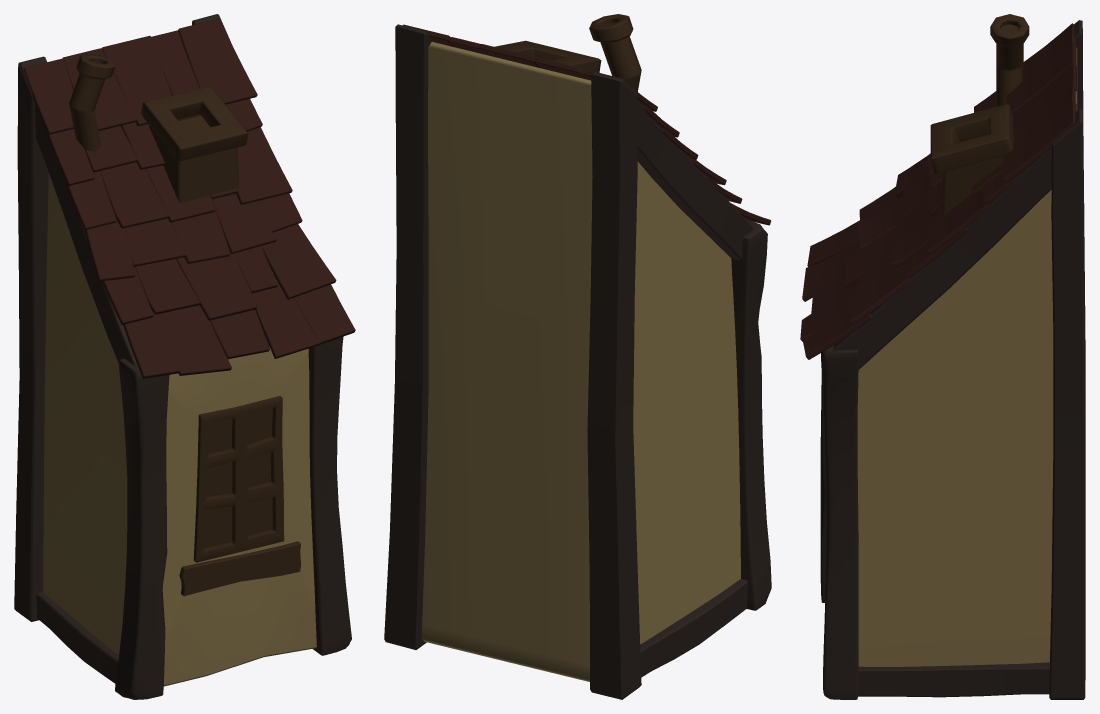
The model's file is P_HouseThree.obj.
3 views of the same model, side by side, from view 1: azimuth 30°, elevation 25°; view 2: azimuth 150°, elevation 25°; view 3: azimuth 270°, elevation 25° (orthographic). The views are drawn at different scales.
Visible parts, largest first — view 1: HouseThree2_pCube4; view 2: HouseThree2_pCube4; view 3: HouseThree2_pCube4.
Boxes of the visible parts, x1=… form: HouseThree2_pCube4: x1=14, y1=14, x2=355, y2=699; HouseThree2_pCube4: x1=384, y1=14, x2=771, y2=699; HouseThree2_pCube4: x1=800, y1=14, x2=1085, y2=699.
Size of the model in its own units: 1.51 by 3.68 by 1.6.
